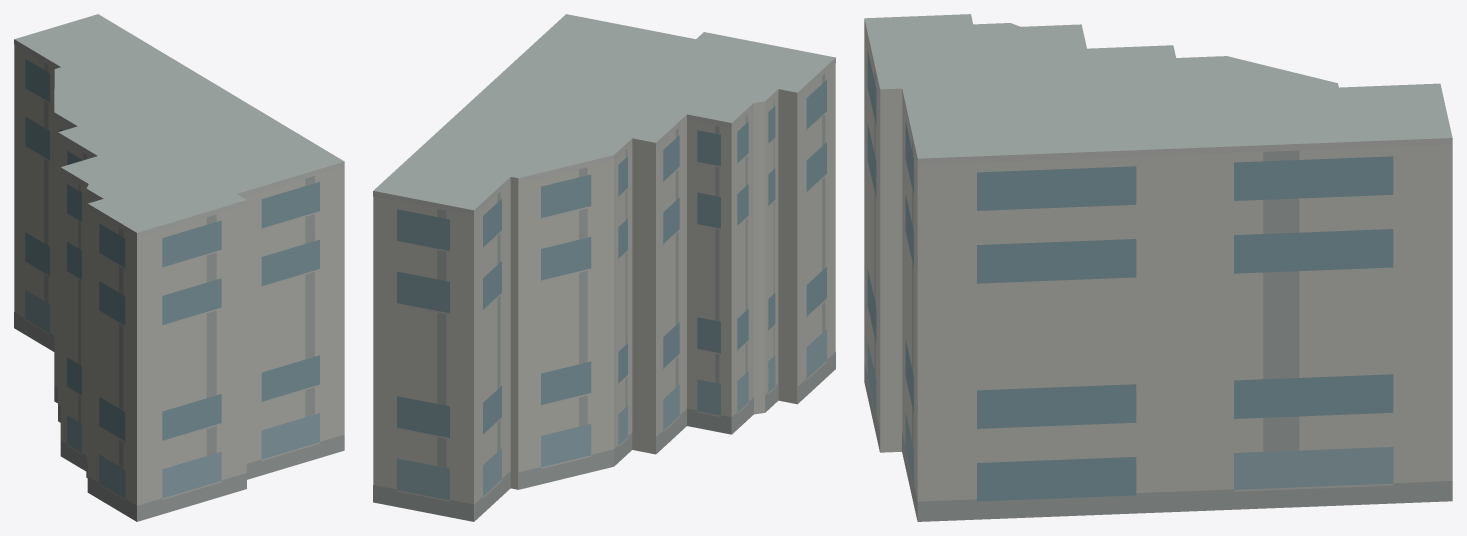
File: survey-upis-32738266.glb
3 renders of one model, left to right at view 1: azimuth 30°, elevation 25°; view 2: azimuth 150°, elevation 25°; view 3: azimuth 270°, elevation 25°, orthographic. The views are drawn at different scales.
Visible parts, largest first — view 1: survey-upis-32738266.tmp; view 2: survey-upis-32738266.tmp; view 3: survey-upis-32738266.tmp.
Part boxes in pixels (x1,y1,x2,y2): survey-upis-32738266.tmp: (14, 14, 344, 521); survey-upis-32738266.tmp: (373, 14, 835, 521); survey-upis-32738266.tmp: (864, 14, 1452, 521).
Bounding box in the file's own units: 11.37 × 13.3 × 19.53.
